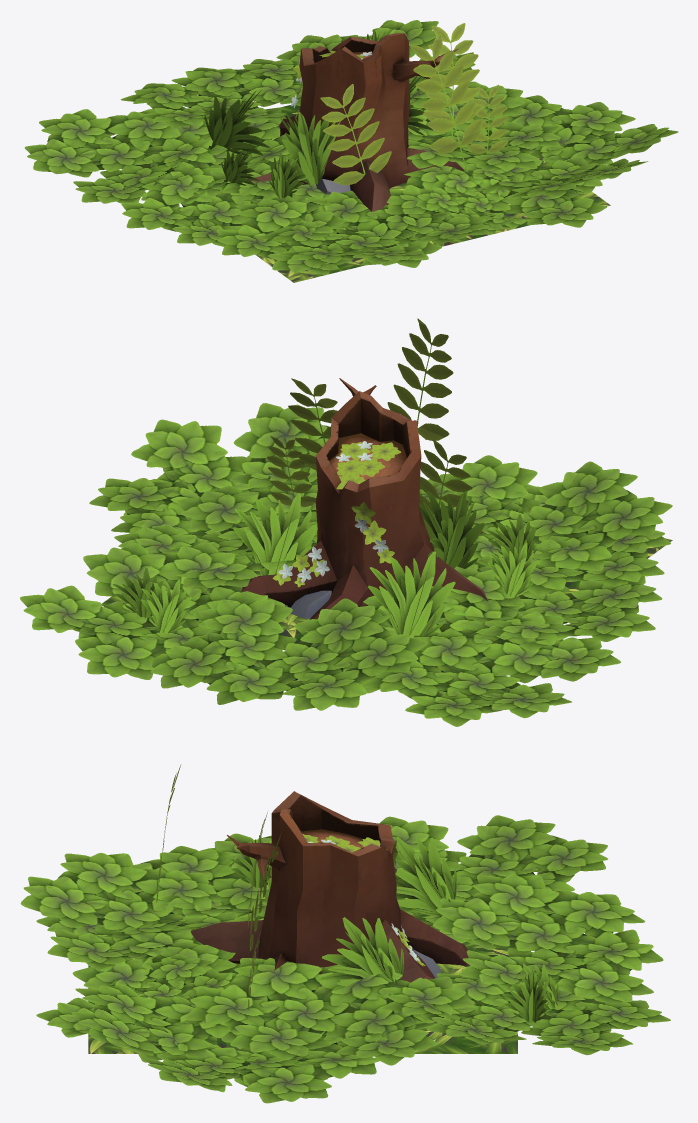
The model's file is tree-stump.glb.
3 renders of one model, top to bottom at view 1: azimuth 30°, elevation 25°; view 2: azimuth 150°, elevation 25°; view 3: azimuth 270°, elevation 25°, orthographic. The views are drawn at different scales.
Visible parts, largest first — view 1: Plane.025_Material.005_0, Cylinder_Material.001_0, Plane_Material.006_0; view 2: Plane.025_Material.005_0, Cylinder_Material.001_0, Plane_Material.006_0; view 3: Plane.025_Material.005_0, Cylinder_Material.001_0, Plane_Material.006_0.
Part boxes in pixels (box(x1,y1,x2,y2)): Plane.025_Material.005_0: box(24, 20, 678, 274); Cylinder_Material.001_0: box(248, 33, 464, 211); Plane_Material.006_0: box(150, 87, 610, 282); Plane.025_Material.005_0: box(20, 318, 672, 726); Cylinder_Material.001_0: box(241, 378, 488, 619); Plane_Material.006_0: box(101, 533, 672, 672); Plane.025_Material.005_0: box(20, 764, 670, 1103); Cylinder_Material.001_0: box(190, 791, 468, 982); Plane_Material.006_0: box(88, 898, 517, 1053).
Bounding box in the file's own units: 1044 × 393 × 996.
3 materials, 3 textured.
